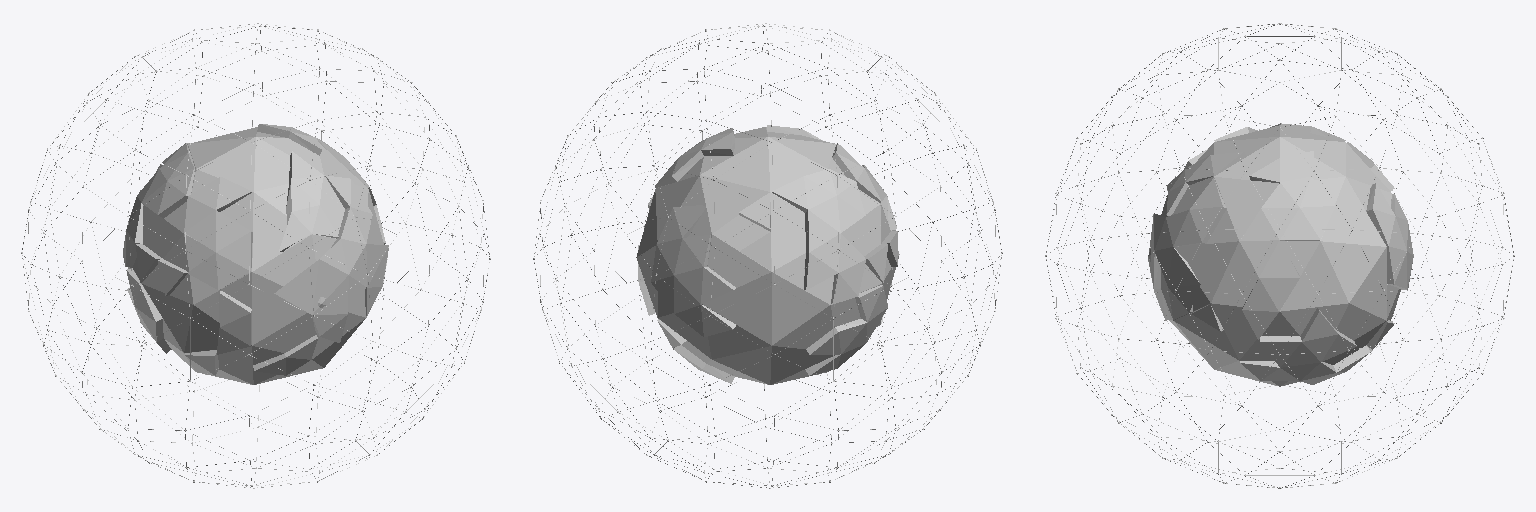
3 renders of one model, left to right at view 1: azimuth 30°, elevation 25°; view 2: azimuth 150°, elevation 25°; view 3: azimuth 270°, elevation 25°, orthographic.
Visible parts, largest first — view 1: 球体.2, 地图, 球体; view 2: 球体.2, 地图, 球体; view 3: 球体.2, 地图, 球体.
Boxes of the visible parts, box(x1,y1,x2,y2) form: 球体.2: box(128, 127, 387, 384); 地图: box(123, 124, 388, 375); 球体: box(21, 23, 490, 488); 球体.2: box(636, 127, 899, 384); 地图: box(638, 125, 897, 383); 球体: box(533, 23, 1002, 488); 球体.2: box(1148, 125, 1400, 386); 地图: box(1148, 123, 1413, 384); 球体: box(1045, 23, 1514, 488).
Size of the model in its own units: 418 by 418 by 418.